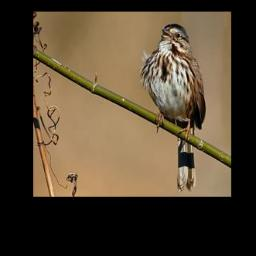Sparrow: (138, 22, 207, 192)
